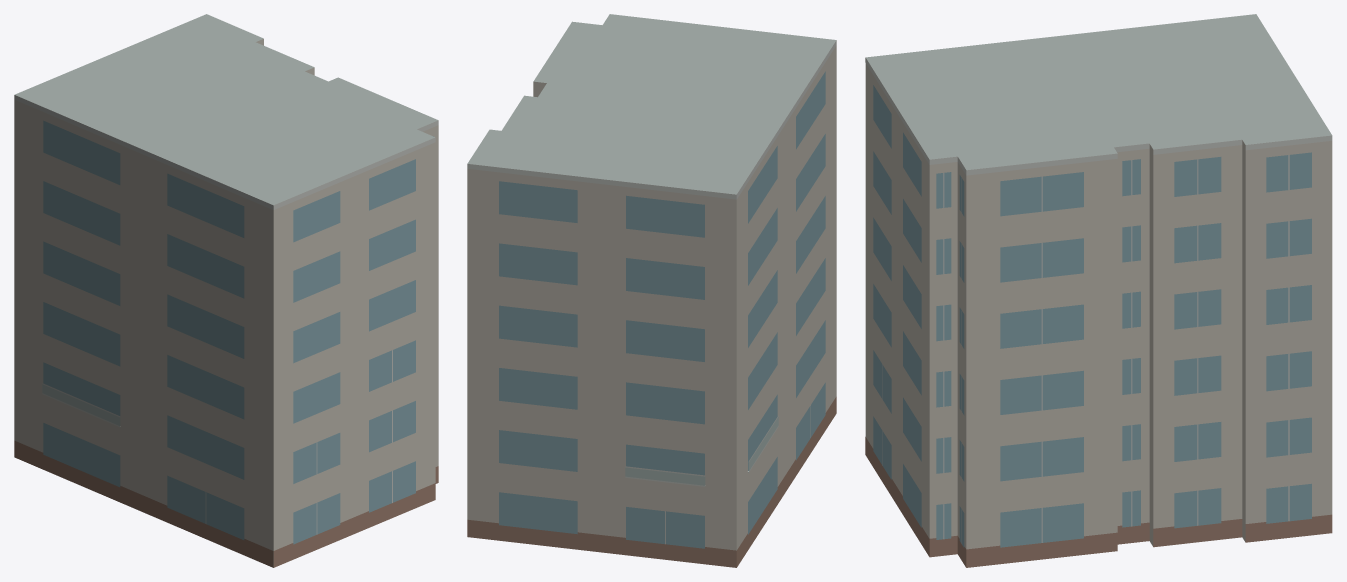
Rendered from survey-upis-32938386.glb.
3 renders of one model, left to right at view 1: azimuth 30°, elevation 25°; view 2: azimuth 150°, elevation 25°; view 3: azimuth 270°, elevation 25°, orthographic. The views are drawn at different scales.
Visible parts, largest first — view 1: survey-upis-32938386.tmp; view 2: survey-upis-32938386.tmp; view 3: survey-upis-32938386.tmp.
Part boxes in pixels (x1,y1,x2,y2): survey-upis-32938386.tmp: [14, 14, 438, 567]; survey-upis-32938386.tmp: [467, 14, 836, 567]; survey-upis-32938386.tmp: [865, 14, 1332, 567].
Bounding box in the file's own units: 15.44 × 18.3 × 19.48.
